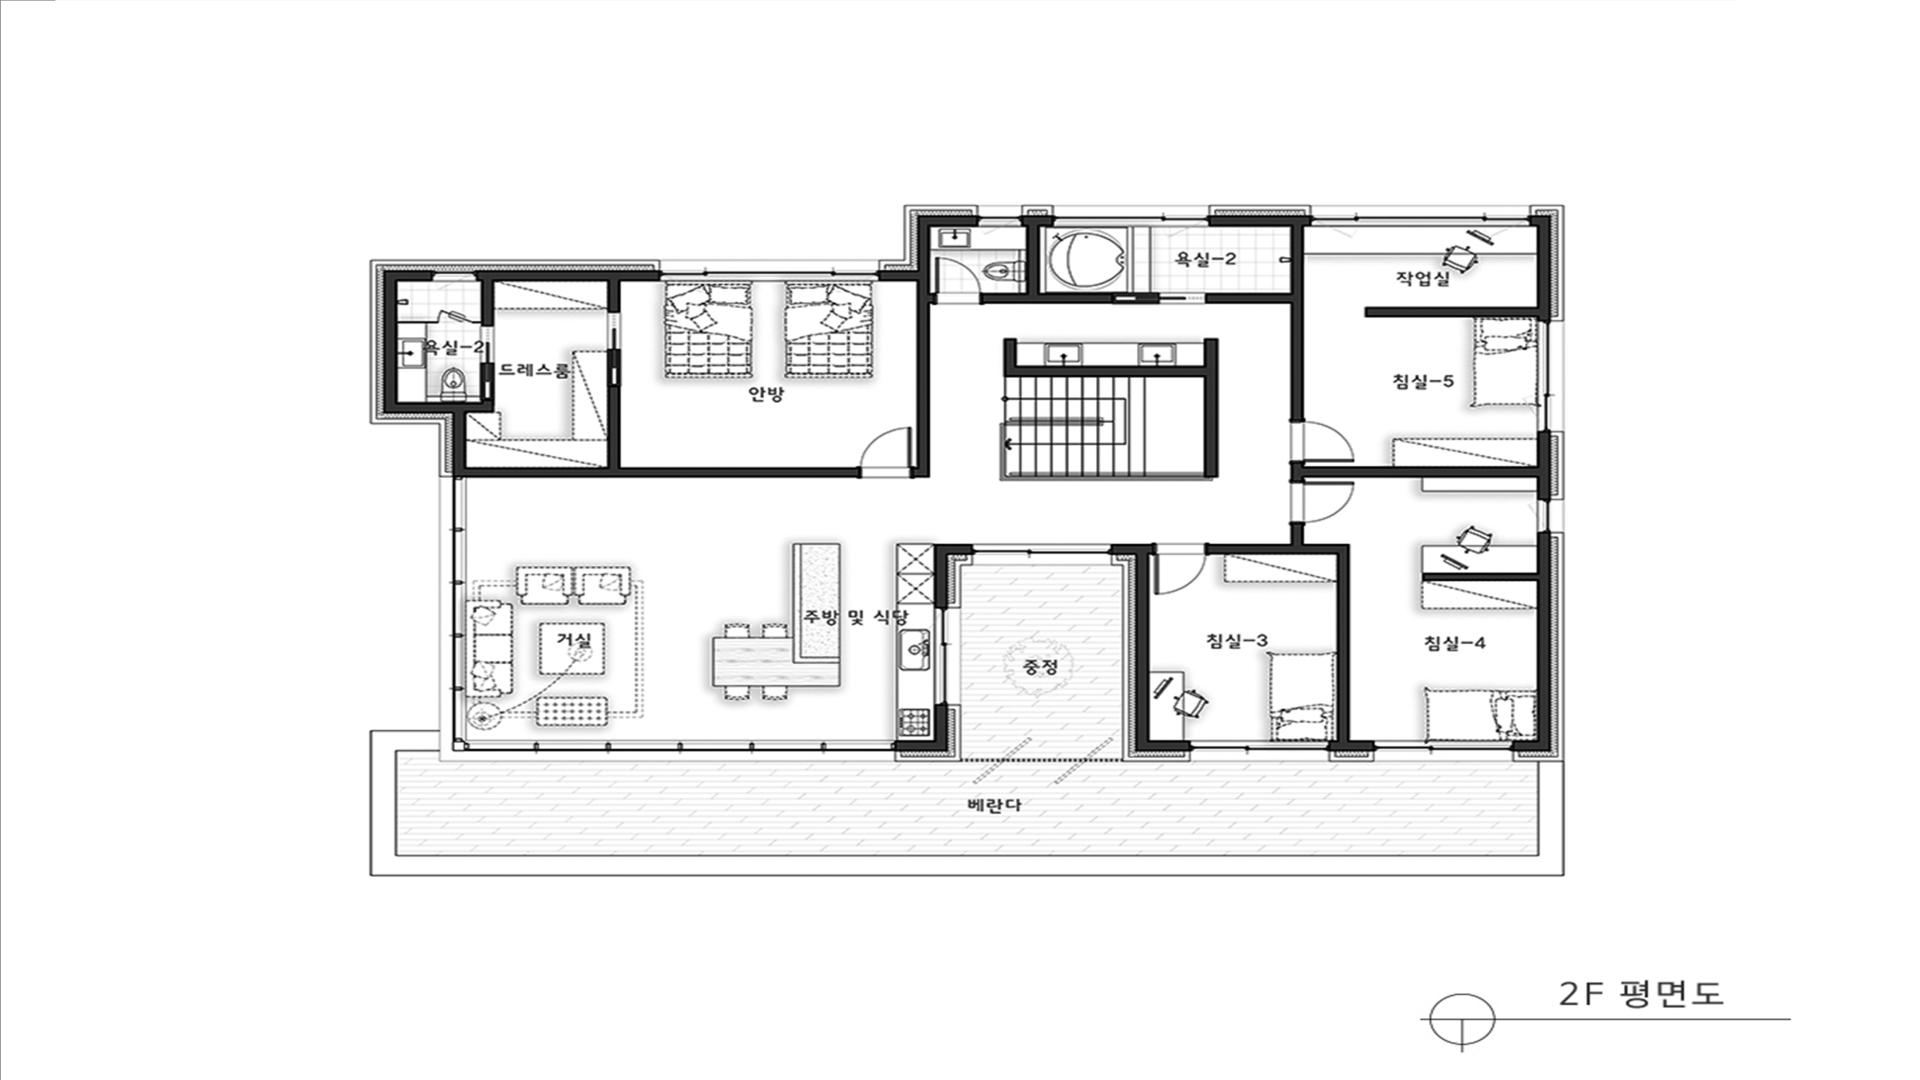door: (1150, 542, 1205, 596), (861, 426, 915, 479), (1288, 483, 1354, 522), (1288, 422, 1354, 460), (930, 256, 981, 305), (435, 309, 480, 323), (479, 327, 495, 363), (607, 313, 621, 348), (1160, 293, 1205, 303)
wall: (467, 467, 860, 477), (1536, 531, 1551, 740), (1135, 543, 1150, 741), (915, 281, 930, 477), (1303, 465, 1536, 477), (1291, 227, 1304, 422), (1337, 555, 1350, 740), (1017, 365, 1204, 377), (1204, 339, 1218, 477), (476, 270, 661, 281), (981, 293, 1160, 303), (1365, 307, 1536, 318), (384, 281, 397, 413), (607, 349, 621, 467), (1205, 543, 1349, 554), (1536, 227, 1551, 322), (1208, 215, 1312, 227), (452, 402, 467, 477), (1423, 572, 1536, 582), (1536, 431, 1551, 500), (1026, 227, 1040, 293), (1205, 293, 1291, 303), (934, 555, 948, 609), (918, 215, 930, 270), (894, 740, 948, 752), (481, 281, 495, 327), (1135, 741, 1191, 752), (930, 215, 978, 227), (480, 363, 495, 402), (398, 402, 452, 413), (1328, 740, 1375, 752), (878, 270, 930, 281), (934, 704, 948, 740), (384, 270, 433, 281), (1004, 339, 1017, 377), (934, 543, 973, 555), (1513, 740, 1551, 752), (608, 281, 621, 313), (1021, 215, 1054, 227), (1110, 543, 1135, 555), (467, 402, 495, 413), (1291, 522, 1304, 543), (1291, 462, 1303, 483), (1530, 215, 1551, 227), (452, 741, 464, 752), (398, 322, 435, 323)
window: (465, 740, 894, 752), (452, 477, 467, 741), (1312, 215, 1530, 227), (661, 270, 878, 281), (1054, 215, 1208, 227), (973, 543, 1110, 555), (1191, 740, 1328, 752), (1375, 740, 1513, 752), (1536, 322, 1551, 431), (934, 609, 948, 704), (433, 270, 476, 282), (978, 215, 1021, 227), (1536, 500, 1551, 531)
